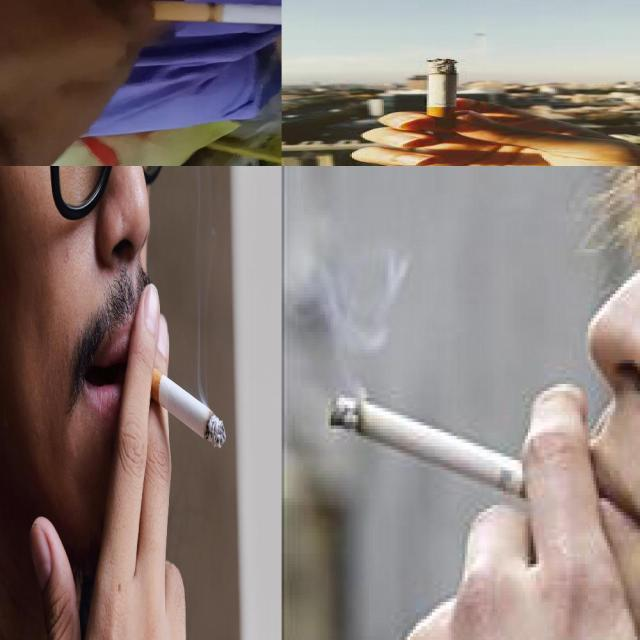smoke: (328, 392, 588, 514), (136, 356, 227, 449), (149, 0, 281, 30), (426, 57, 458, 129)
